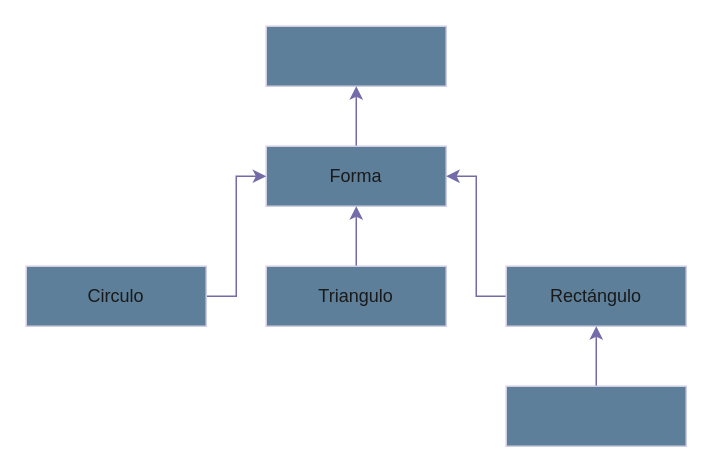
Some shapes in this 713 by 473 pixel diagram are drawn without their labels. Each missing label, with the centre of its shape:
"Cuadrado" goes at (x=595, y=415).
"Objeto" goes at (x=355, y=55).
